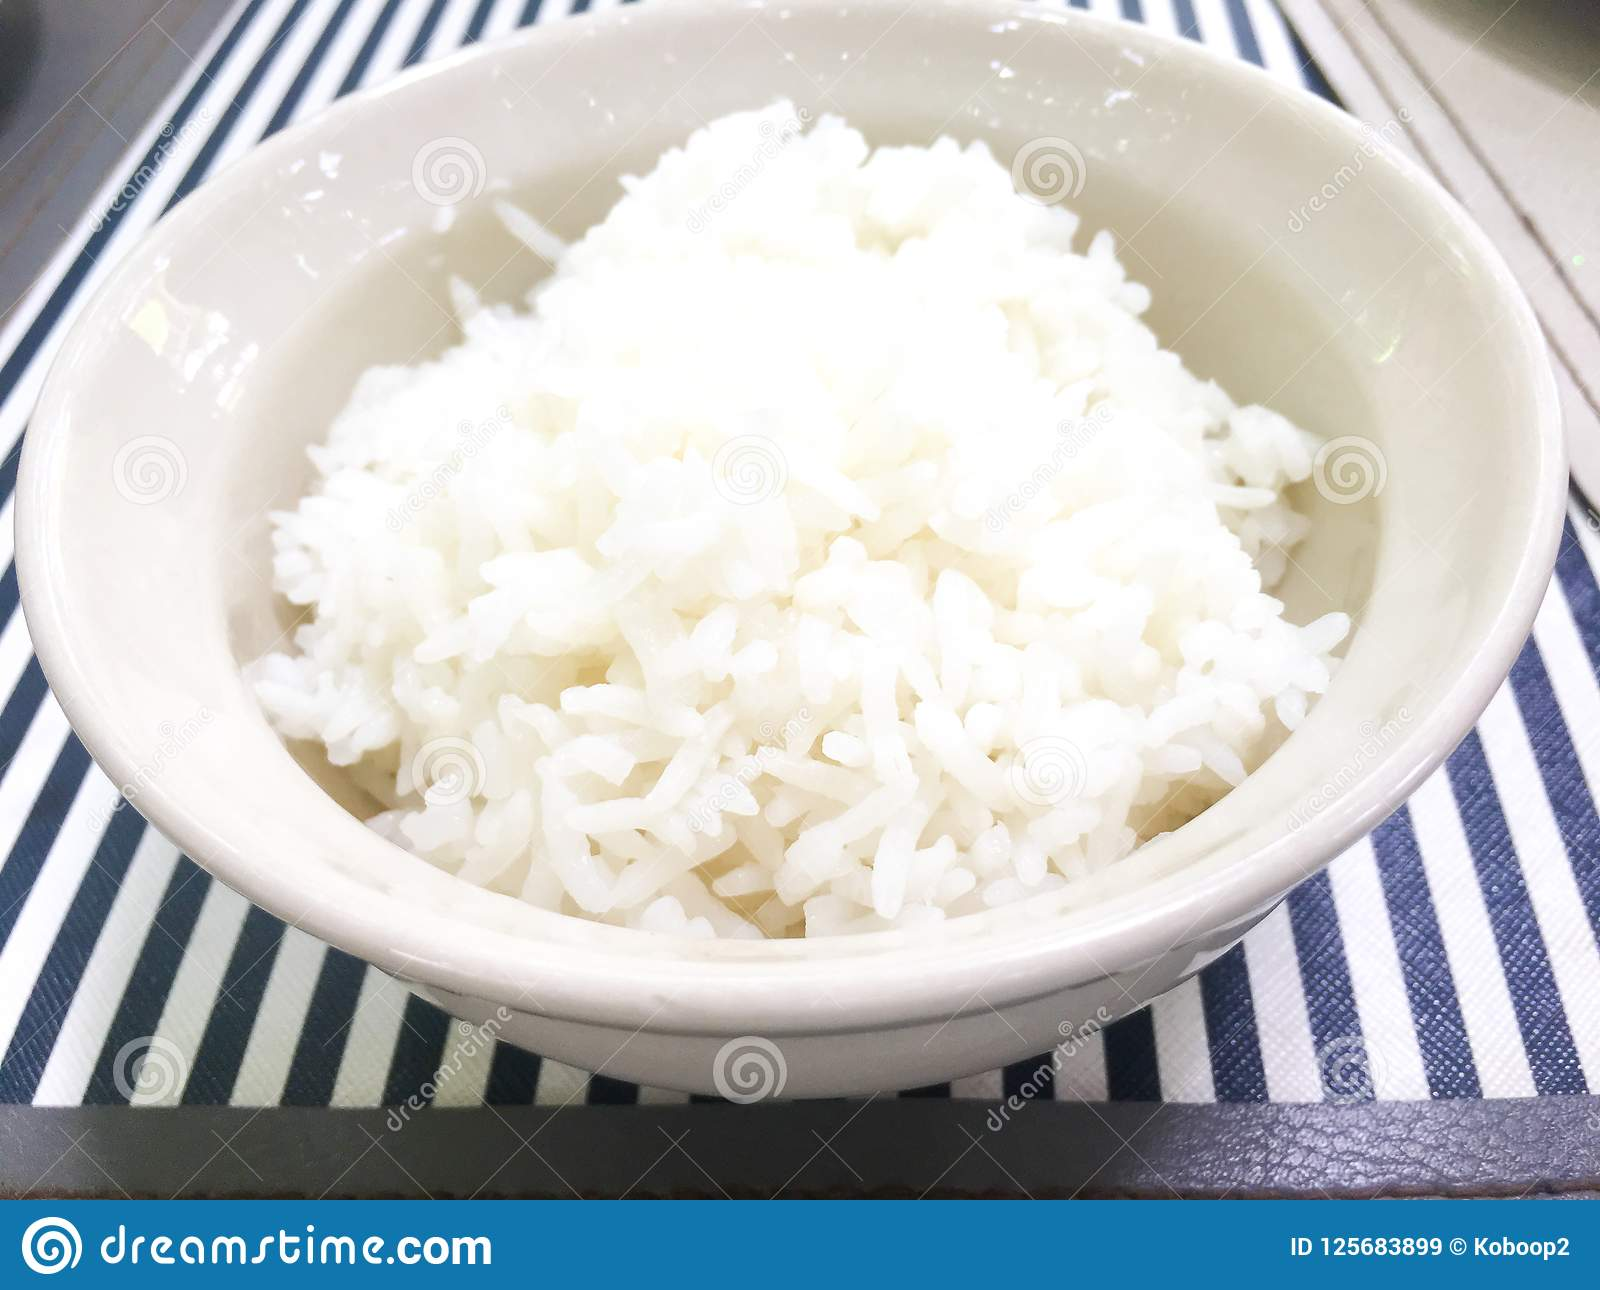rice: (222, 103, 1374, 912)
